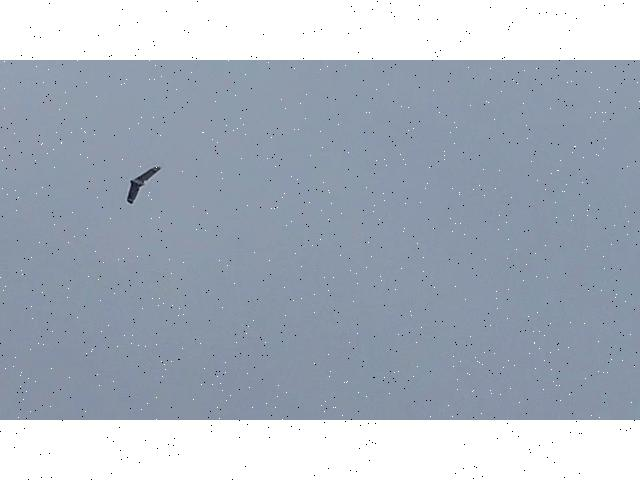Anti-Drone: (126, 166, 162, 206)
